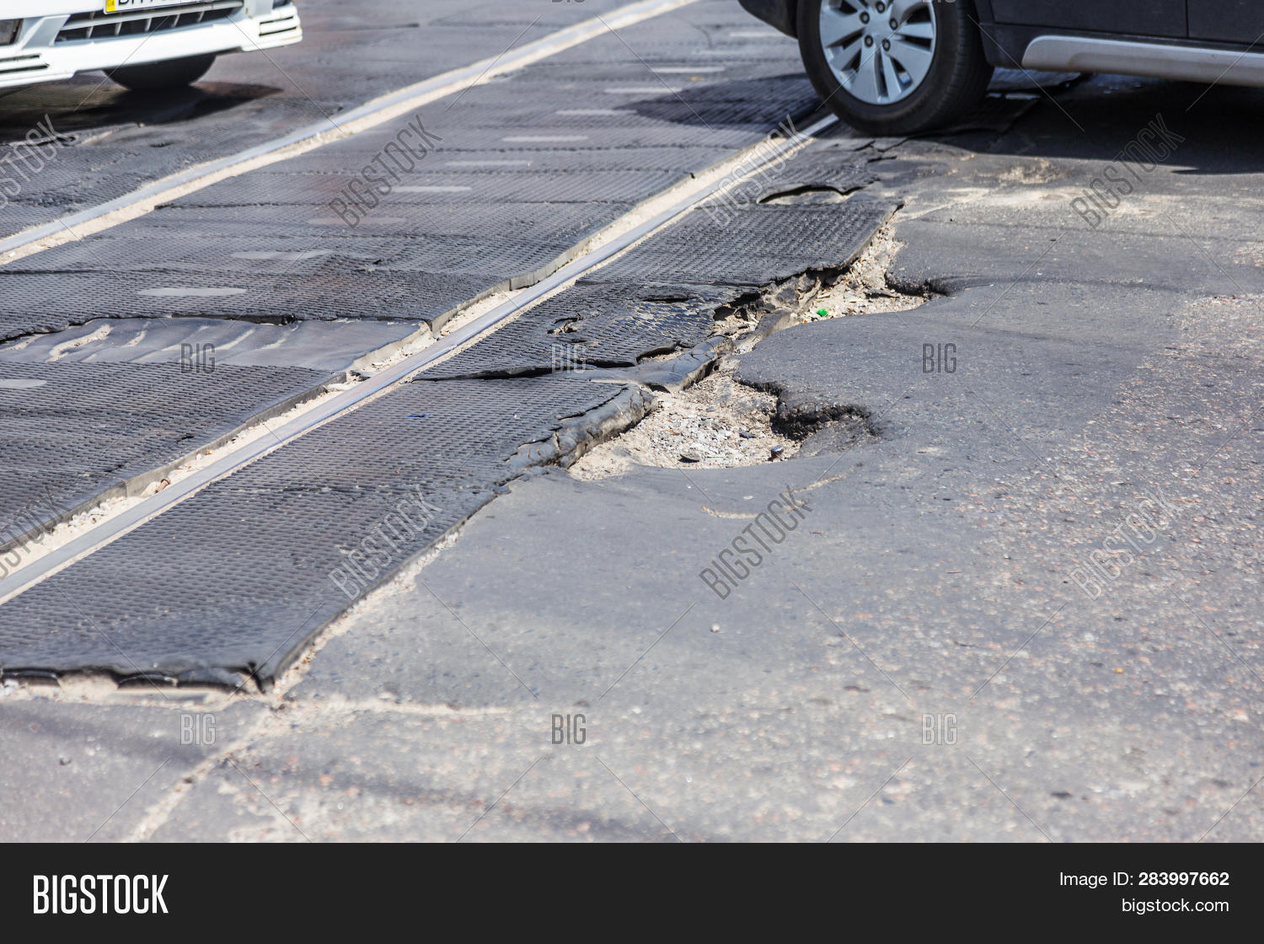Hole_in_the_road: (393, 212, 994, 515)
